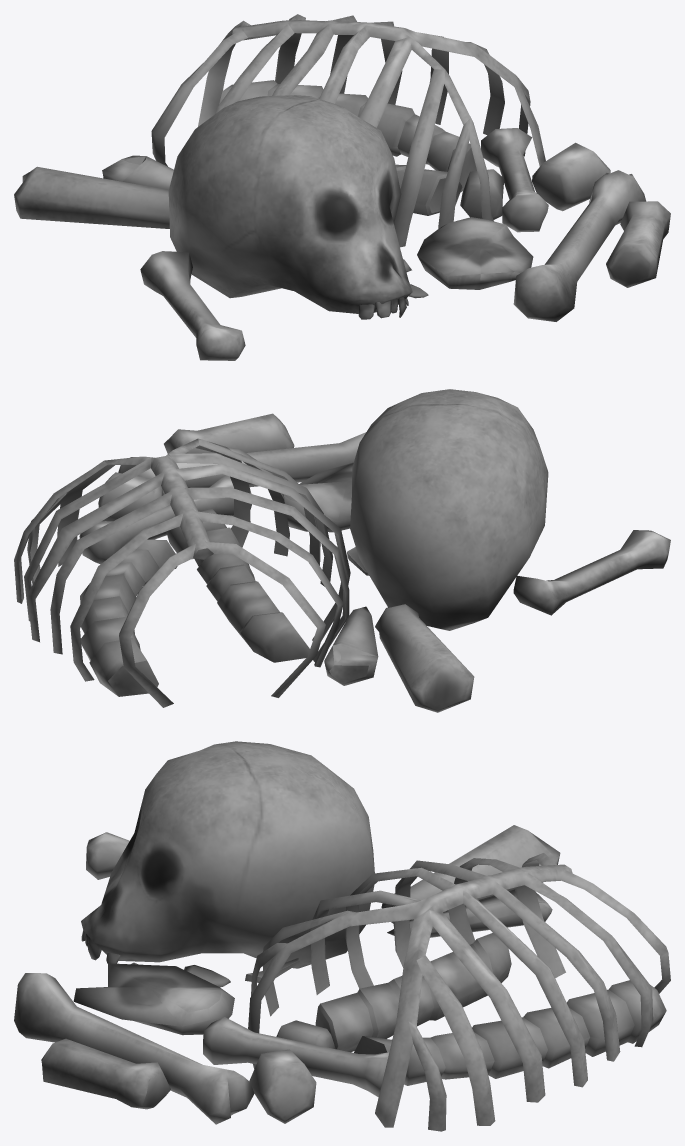
File: sb_obj_outdoor037_Skeleton.fbx
The picture shows the model from 3 angles, top to bottom: view 1: azimuth 30°, elevation 25°; view 2: azimuth 150°, elevation 25°; view 3: azimuth 270°, elevation 25°; orthographic projection. The views are drawn at different scales.
Parts seen in each view (by area): view 1: sb_obj_outdoor037_Skeleton; view 2: sb_obj_outdoor037_Skeleton; view 3: sb_obj_outdoor037_Skeleton.
Part boxes in pixels (x1=…): sb_obj_outdoor037_Skeleton: x1=14, y1=14, x2=670, y2=360; sb_obj_outdoor037_Skeleton: x1=14, y1=389, x2=670, y2=712; sb_obj_outdoor037_Skeleton: x1=14, y1=741, x2=670, y2=1131.
Size of the model in its own units: 1.07 by 0.4343 by 1.14.
